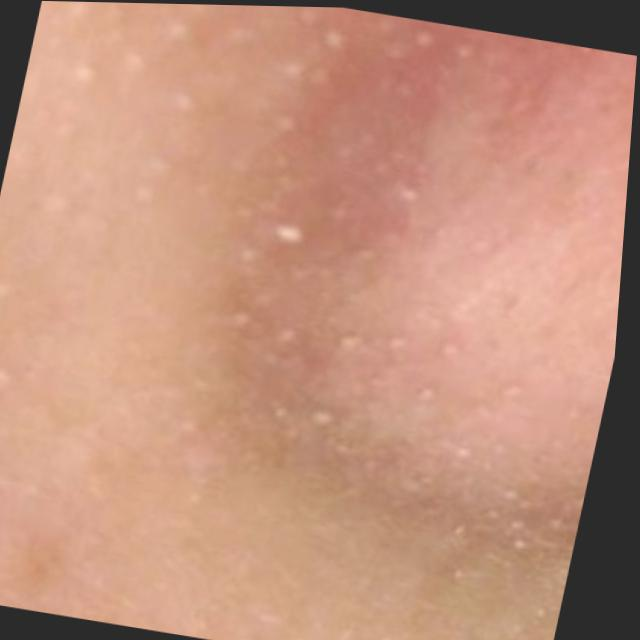whitehead: (17, 1, 627, 596)
